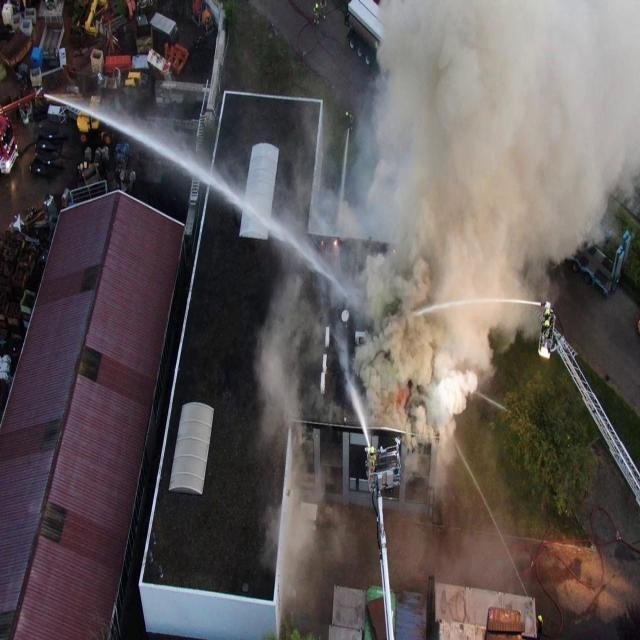Fire: (334, 240, 337, 246)
Smoke: (256, 0, 640, 605)
